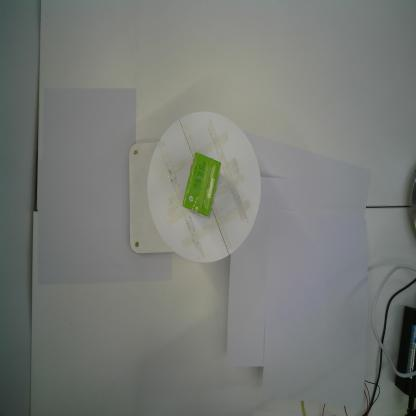Milk: (183, 152, 222, 220)
